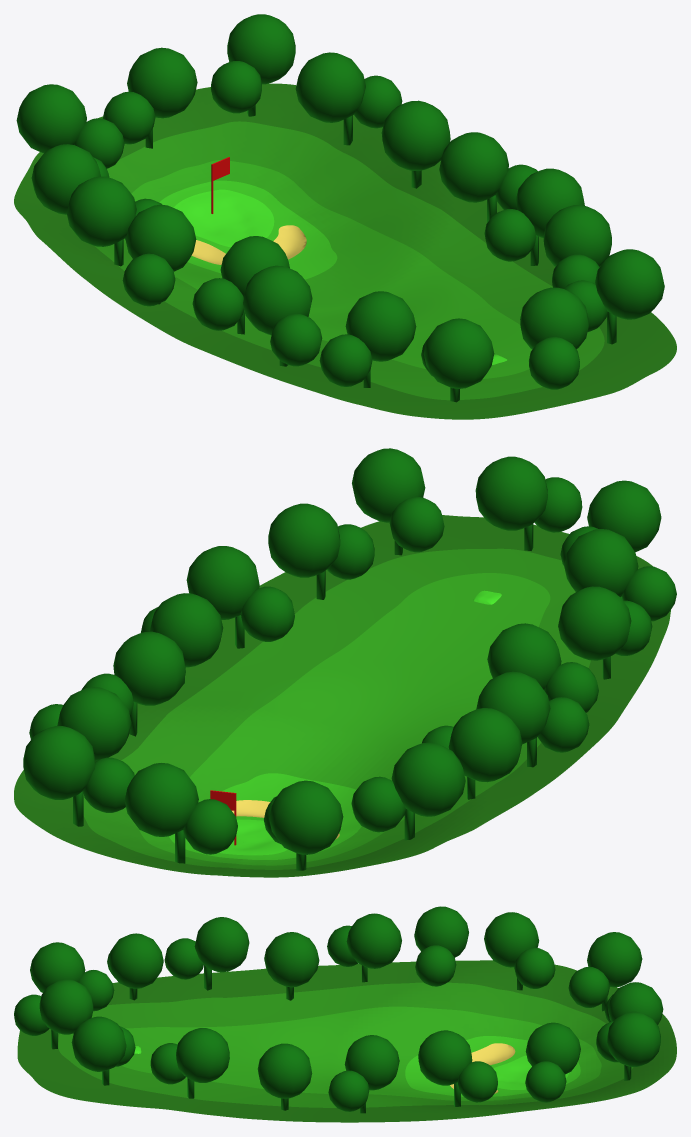
The model's file is bowl.glb.
3 renders of one model, top to bottom at view 1: azimuth 30°, elevation 25°; view 2: azimuth 150°, elevation 25°; view 3: azimuth 270°, elevation 25°, orthographic. The views are drawn at different scales.
Parts seen in each view (by area): view 1: OB, heavy-rough, rough, Sphere.016, Sphere.007, Sphere.008, Sphere.009, Sphere.015, Sphere.013, Sphere.004, Sphere.010, Sphere.001 (+13 smaller); view 2: rough, heavy-rough, OB, Sphere.009, Sphere.011, Sphere.008, Sphere.002, Sphere.003, Sphere.004, Sphere.001, Sphere.016, Sphere.015 (+11 smaller); view 3: OB, heavy-rough, rough, Sphere.015, Sphere.006, Sphere.010, Sphere.011, Sphere.005, Sphere.002, Sphere.004, Sphere.007, Sphere.012 (+12 smaller).
Boxes of the visible parts, bbox=[...] form: OB: bbox=[14, 83, 676, 419]; heavy-rough: bbox=[95, 121, 604, 400]; rough: bbox=[124, 160, 532, 378]; Sphere.016: bbox=[319, 291, 416, 387]; Sphere.007: bbox=[295, 52, 402, 145]; Sphere.008: bbox=[211, 14, 295, 116]; Sphere.009: bbox=[103, 47, 197, 148]; Sphere.015: bbox=[243, 265, 322, 366]; Sphere.013: bbox=[122, 204, 196, 306]; Sphere.004: bbox=[520, 287, 588, 389]; Sphere.010: bbox=[16, 84, 124, 168]; Sphere.001: bbox=[564, 249, 664, 344]; rough: bbox=[139, 573, 550, 865]; heavy-rough: bbox=[83, 548, 590, 869]; OB: bbox=[14, 515, 670, 877]; Sphere.009: bbox=[124, 763, 237, 863]; Sphere.011: bbox=[351, 742, 465, 840]; Sphere.008: bbox=[23, 726, 134, 826]; Sphere.002: bbox=[268, 503, 374, 599]; Sphere.003: bbox=[186, 546, 294, 648]; Sphere.004: bbox=[475, 456, 582, 550]; Sphere.001: bbox=[352, 448, 444, 555]; Sphere.016: bbox=[564, 529, 676, 621]; Sphere.015: bbox=[558, 586, 652, 679]; OB: bbox=[17, 960, 676, 1122]; heavy-rough: bbox=[58, 982, 633, 1107]; rough: bbox=[121, 1006, 601, 1100]; Sphere.015: bbox=[164, 917, 249, 990]; Sphere.006: bbox=[418, 1030, 497, 1106]; Sphere.010: bbox=[568, 932, 642, 1011]; Sphere.011: bbox=[484, 912, 555, 990]; Sphere.005: bbox=[328, 1035, 399, 1113]; Sphere.002: bbox=[150, 1028, 229, 1098]; Sphere.004: bbox=[14, 979, 93, 1049]; Sphere.007: bbox=[525, 1022, 580, 1102]; Sphere.012: bbox=[414, 906, 468, 986].
Bounding box in the file's own units: 0.6838 × 0.2302 × 1.19.
